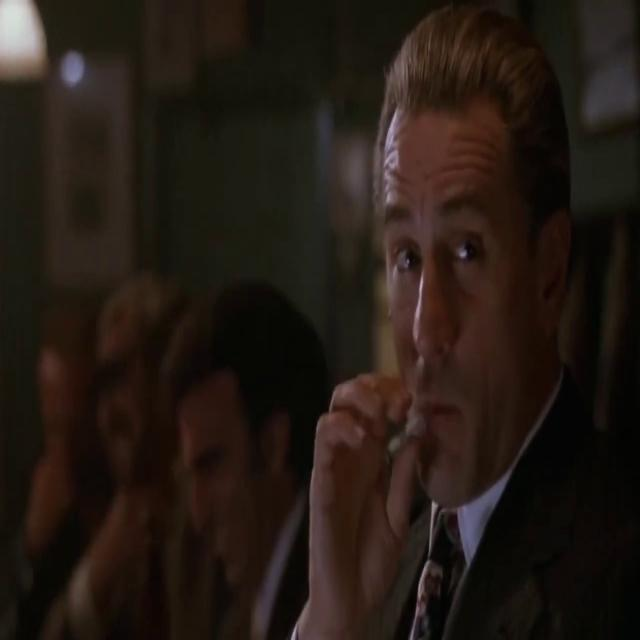Smooking: (378, 394, 426, 463)
